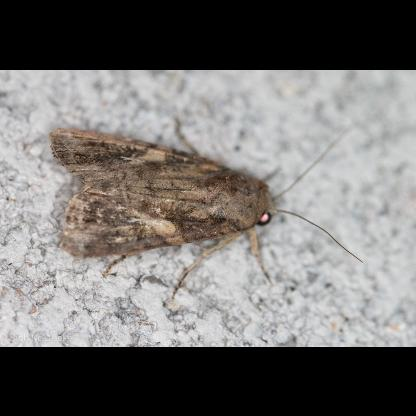Fall Armyworm Moth: (46, 125, 366, 301)
